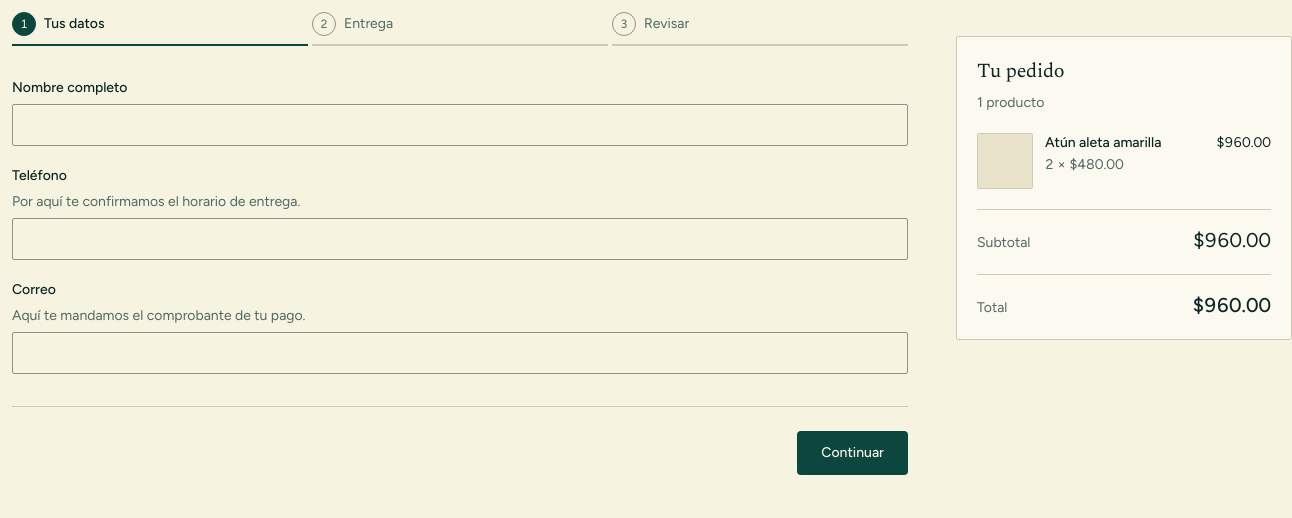
avanzar entre pasos › exige el correo, que antes era opcional
Type "Ana Torres" into the field labelled "Nombre completo" at (460, 125), box x1=12 y1=104 x2=908 y2=146
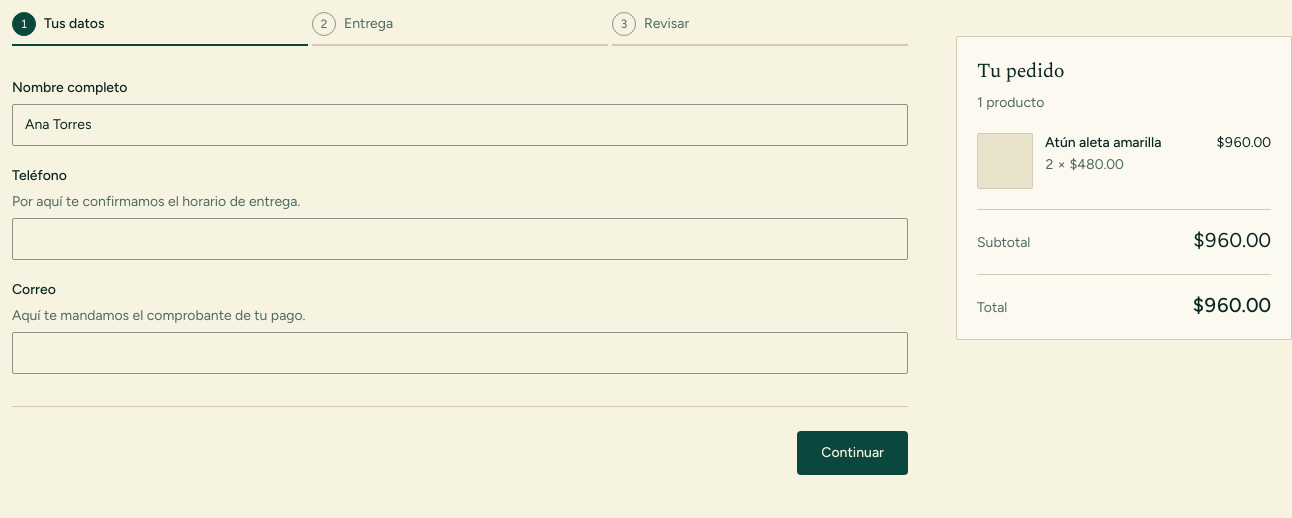
Type "8112345678" into the field labelled "Teléfono" at (460, 239), box x1=12 y1=218 x2=908 y2=260
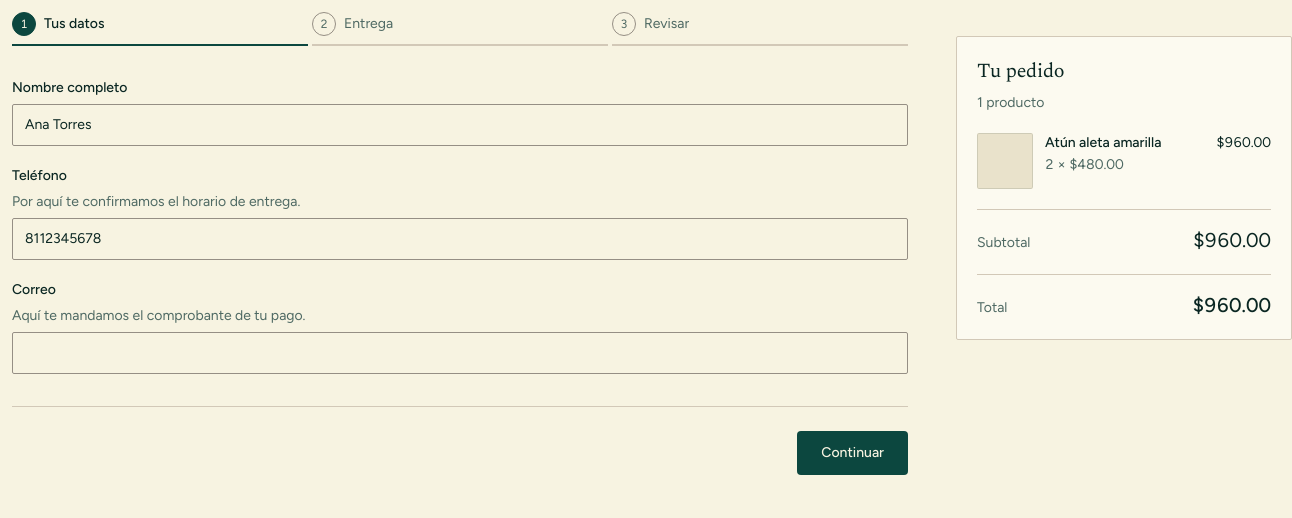
Click the button "Continuar" at (853, 453), box x1=797 y1=431 x2=908 y2=475
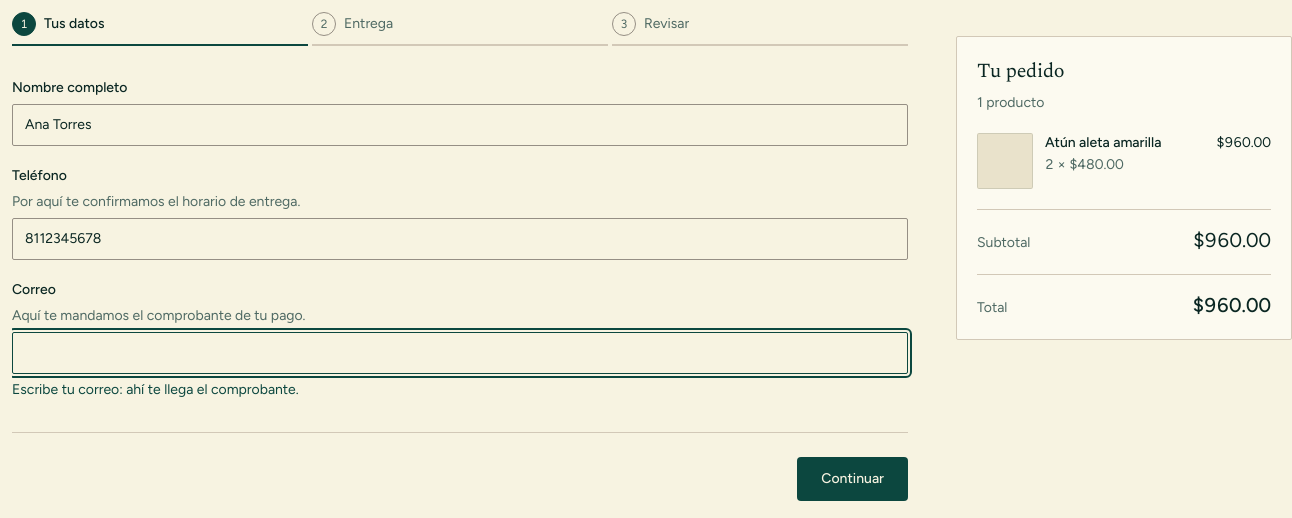
Expected: the text "Escribe tu correo: ahí te llega el comprobante." is shown, x1=12 y1=381 x2=299 y2=398
